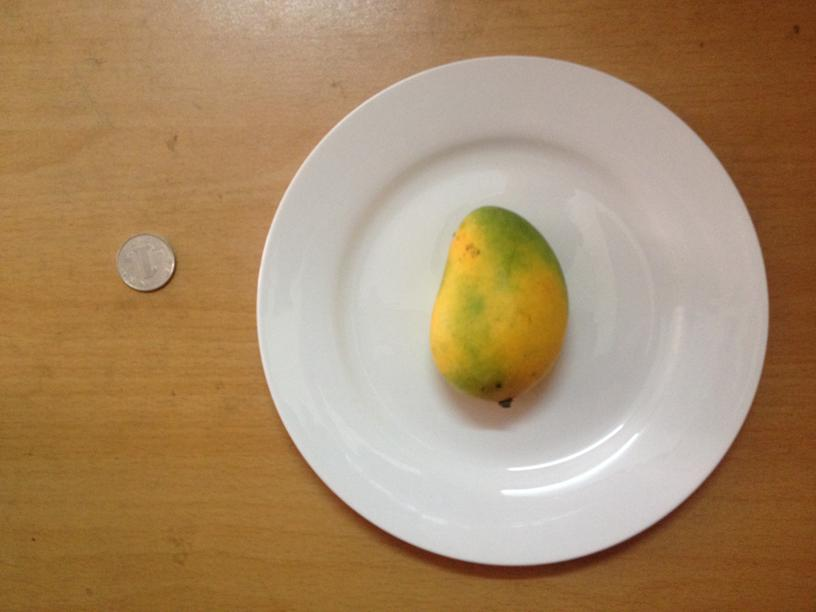coin: (117, 235, 174, 292)
mango: (425, 207, 569, 403)
